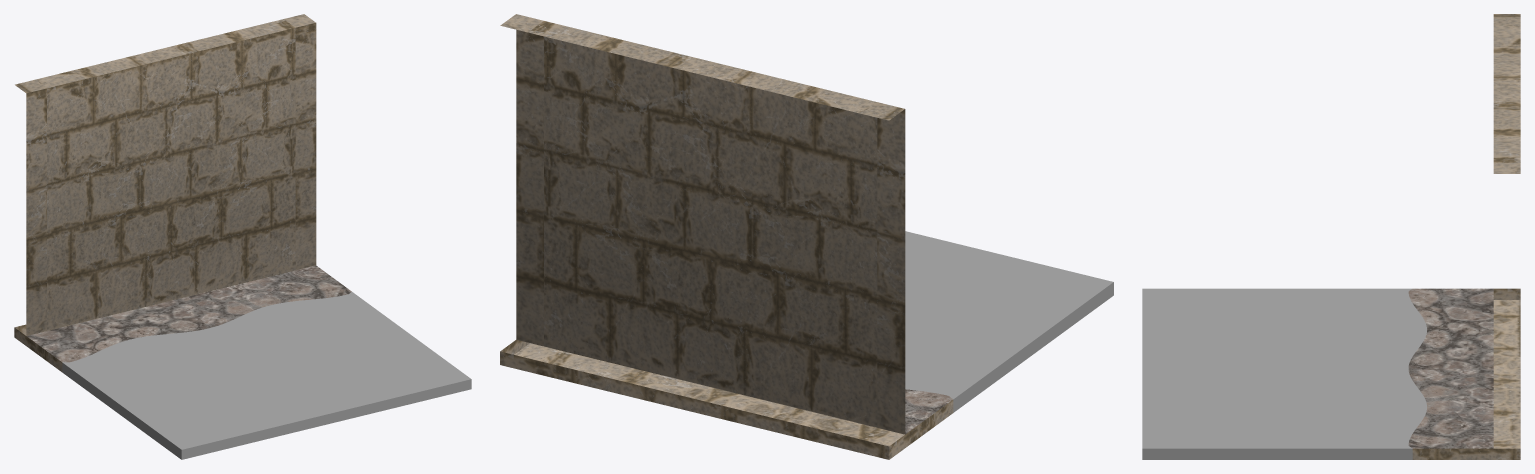
The model's file is ModuleWallWithGround.fbx.
3 views of the same model, side by side, from view 1: azimuth 30°, elevation 25°; view 2: azimuth 150°, elevation 25°; view 3: azimuth 270°, elevation 25° (orthographic). The views are drawn at different scales.
Parts seen in each view (by area): view 1: ModuleWallWithGroundStraightWalls, ModuleWallWithGroundDirtStraightTile, ModuleWallWithGroundCobblesStraightTile, ModuleWallWithGroundDirtStraightEdge, ModuleWallWithGroundCobblesStraightEdge; view 2: ModuleWallWithGroundStraightWalls, ModuleWallWithGroundDirtStraightTile, ModuleWallWithGroundCobblesStraightEdge, ModuleWallWithGroundDirtStraightEdge, ModuleWallWithGroundCobblesStraightTile; view 3: ModuleWallWithGroundDirtStraightTile, ModuleWallWithGroundCobblesStraightTile, ModuleWallWithGroundCobblesStraightEdge, ModuleWallWithGroundStraightWalls, ModuleWallWithGroundDirtStraightEdge.
Part boxes in pixels (x1,y1,x2,y2): ModuleWallWithGroundStraightWalls: (15, 14, 316, 335); ModuleWallWithGroundDirtStraightTile: (62, 292, 471, 449); ModuleWallWithGroundCobblesStraightTile: (26, 265, 351, 362); ModuleWallWithGroundDirtStraightEdge: (62, 363, 471, 459); ModuleWallWithGroundCobblesStraightEdge: (14, 324, 62, 371); ModuleWallWithGroundStraightWalls: (500, 14, 905, 434); ModuleWallWithGroundDirtStraightTile: (905, 231, 1113, 399); ModuleWallWithGroundCobblesStraightEdge: (500, 339, 953, 459); ModuleWallWithGroundDirtStraightEdge: (953, 282, 1113, 412); ModuleWallWithGroundCobblesStraightTile: (905, 389, 952, 434); ModuleWallWithGroundDirtStraightTile: (1142, 288, 1426, 448); ModuleWallWithGroundCobblesStraightTile: (1408, 288, 1493, 448); ModuleWallWithGroundCobblesStraightEdge: (1412, 288, 1520, 459); ModuleWallWithGroundStraightWalls: (1493, 14, 1520, 173); ModuleWallWithGroundDirtStraightEdge: (1142, 448, 1412, 459).
Size of the model in its own units: 300 by 250 by 300.
